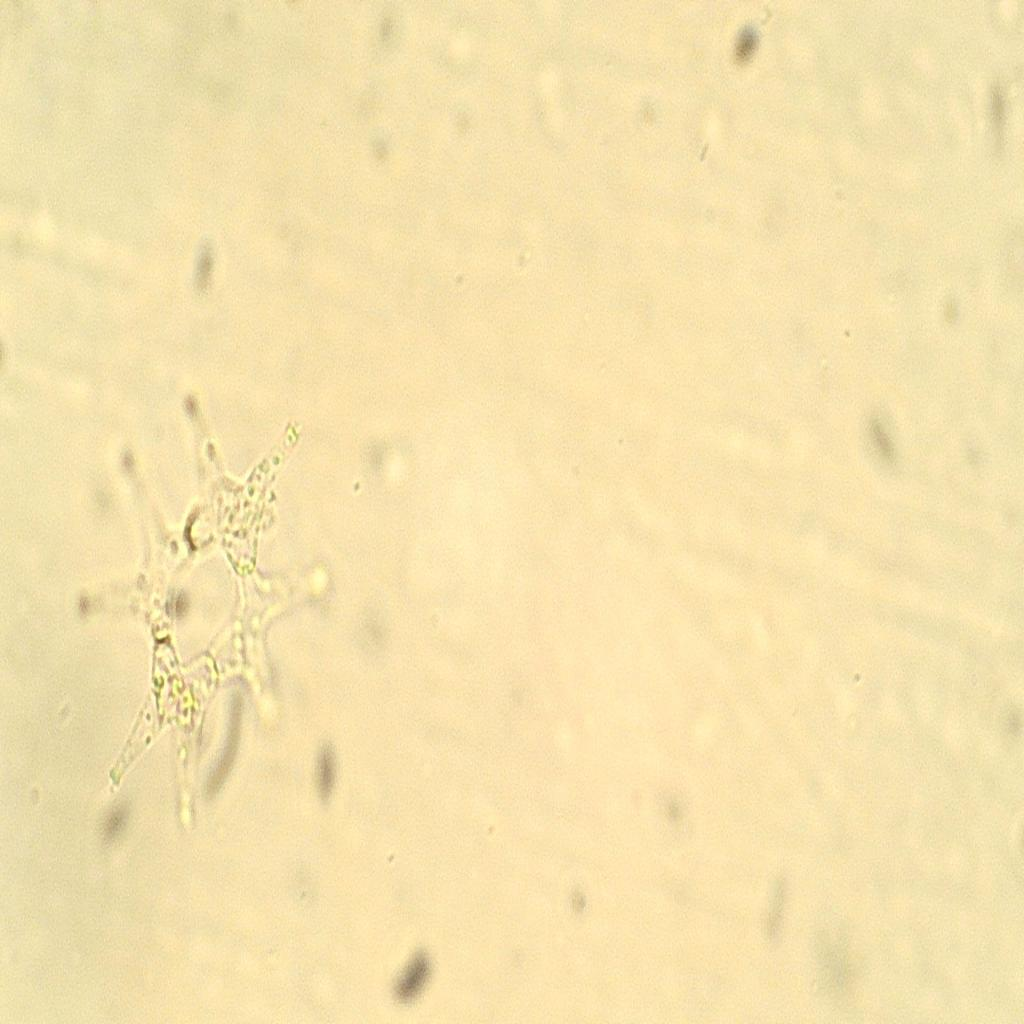Pediastrum_75TH: (57, 359, 337, 866)
